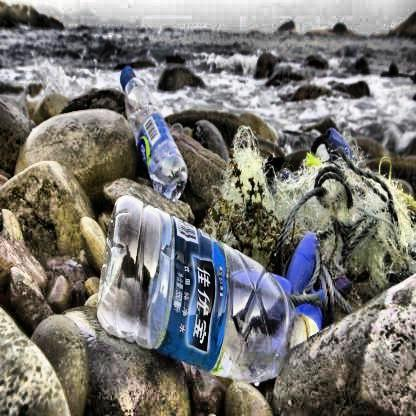Plastic: (93, 193, 299, 385), (118, 62, 192, 197)
